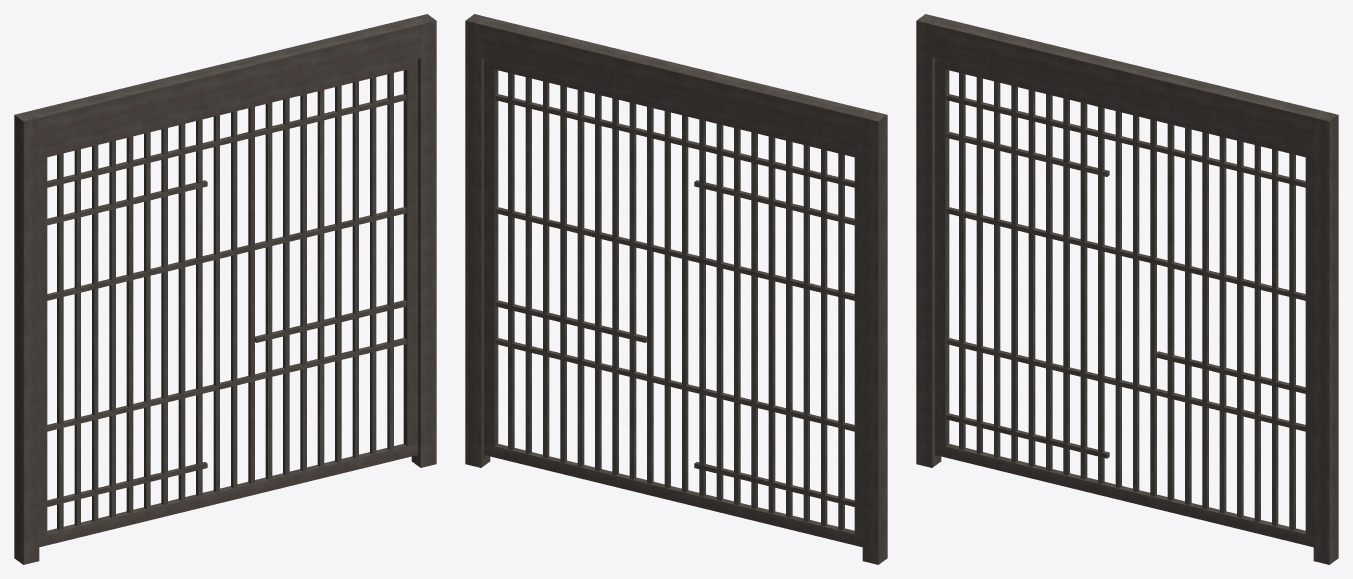
File: es-kyomatiya-oboro_h2000-w1950_karacha.fbx
3 views of the same model, side by side, from view 1: azimuth 30°, elevation 25°; view 2: azimuth 150°, elevation 25°; view 3: azimuth 330°, elevation 25° (orthographic).
Parts seen in each view (by area): view 1: es-kyomatiya-oboro_h2000-w1950_kakicha.001; view 2: es-kyomatiya-oboro_h2000-w1950_kakicha.001; view 3: es-kyomatiya-oboro_h2000-w1950_kakicha.001.
Boxes of the visible parts, <box> form: es-kyomatiya-oboro_h2000-w1950_kakicha.001: <box>14,14,436,564</box>; es-kyomatiya-oboro_h2000-w1950_kakicha.001: <box>465,14,887,564</box>; es-kyomatiya-oboro_h2000-w1950_kakicha.001: <box>916,14,1338,564</box>.
Bounding box in the file's own units: 195 × 200 × 7.5.
Materials: 2 (2 with a texture image).
